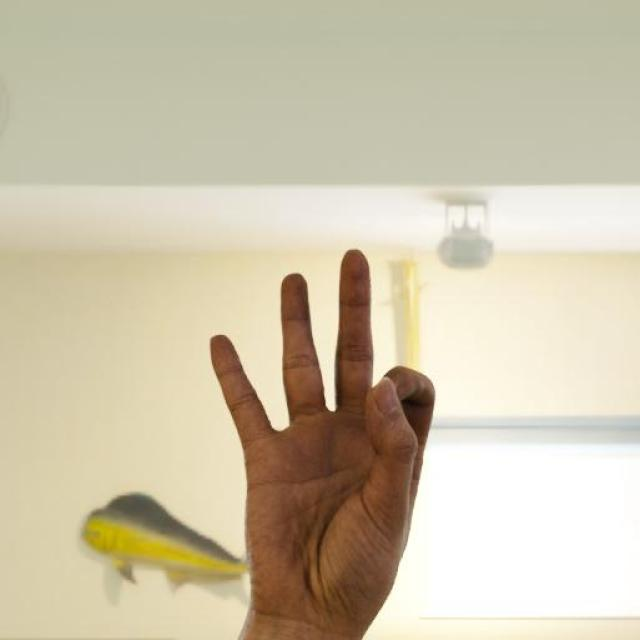F: (204, 245, 440, 630)
